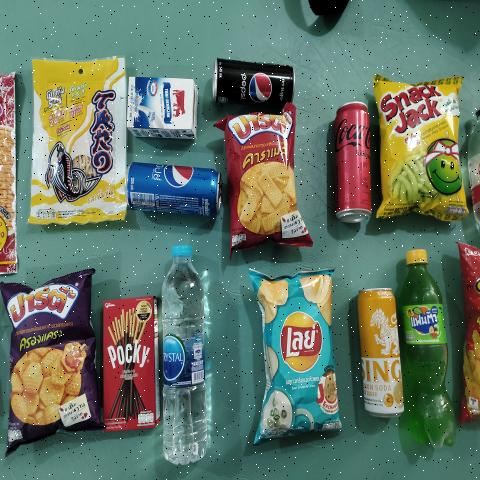coke_red: (336, 101, 373, 220)
crystal: (163, 241, 208, 467)
fanta_green: (399, 249, 455, 460)
lay_blue: (263, 282, 334, 427)
party_purple: (7, 290, 92, 432)
party_red: (235, 121, 293, 233)
pepsi_black: (211, 56, 298, 112)
pepsi_blue: (129, 163, 224, 220)
pokki: (103, 300, 156, 428)
singha_yellow: (356, 286, 404, 416)
snack_jack: (382, 83, 458, 209)
taro_yellow: (36, 62, 125, 211)
thai_denmark: (127, 76, 202, 142)
